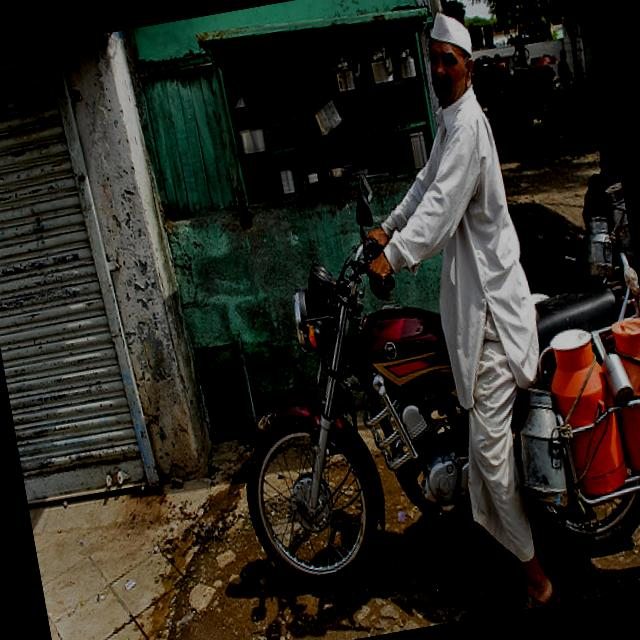Vehicle: (190, 137, 640, 637)
